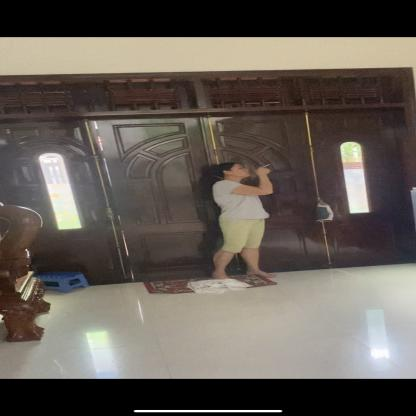cigarette: (260, 164, 272, 168)
person: (210, 154, 278, 285)
